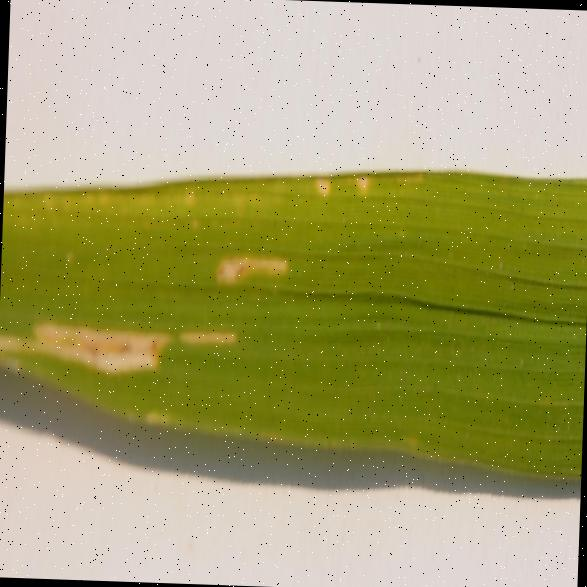Bacteria_Leaf_Blight: (18, 132, 428, 286), (0, 282, 252, 433)
